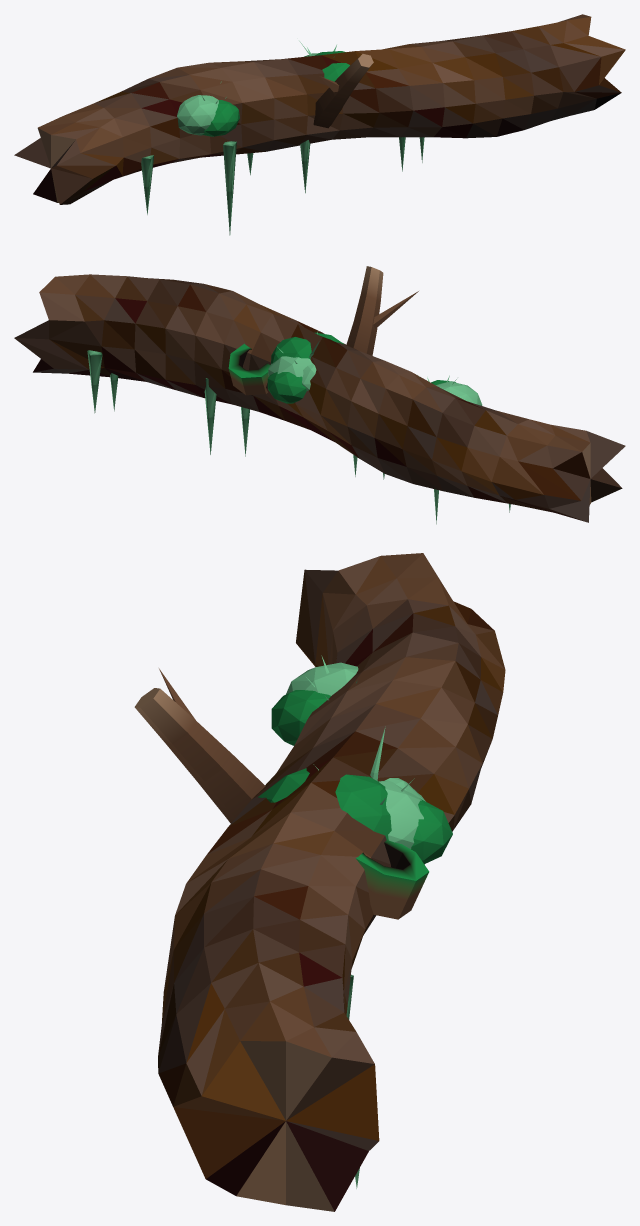
Rendered from pohon_tumbang_bridge_rainforest_559275.glb.
3 views of the same model, one above another, from view 1: azimuth 30°, elevation 25°; view 2: azimuth 150°, elevation 25°; view 3: azimuth 270°, elevation 25° (orthographic). The views are drawn at different scales.
Parts seen in each view (by area): view 1: Batang_Melintang_Sungai; view 2: Batang_Melintang_Sungai; view 3: Batang_Melintang_Sungai.
Boxes of the visible parts, x1,y1,x2,y2 form: Batang_Melintang_Sungai: (14, 14, 625, 235); Batang_Melintang_Sungai: (14, 266, 625, 524); Batang_Melintang_Sungai: (134, 553, 505, 1211).
Bounding box in the file's own units: 8.6 × 2.82 × 2.53.
